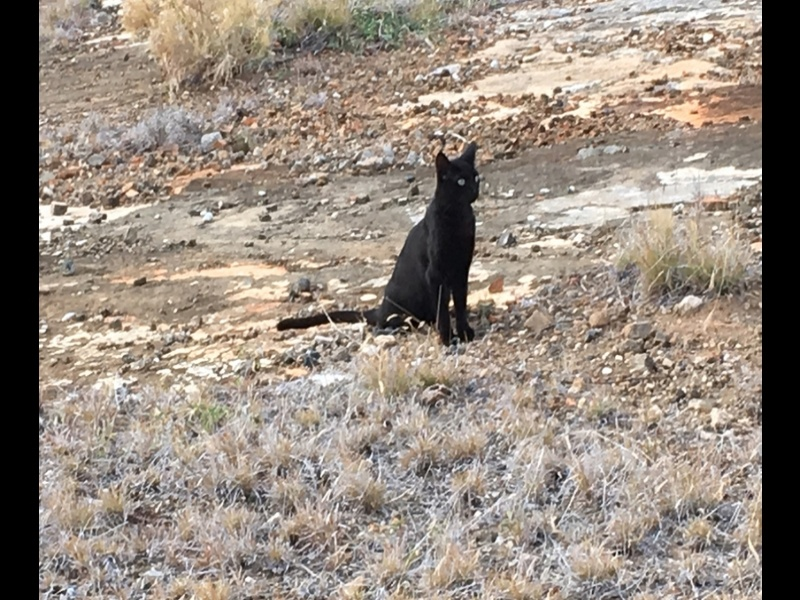cat: (272, 139, 483, 358)
